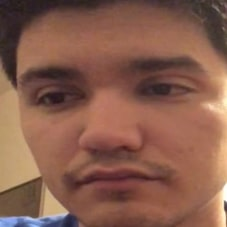drowsy: (16, 54, 211, 206)
